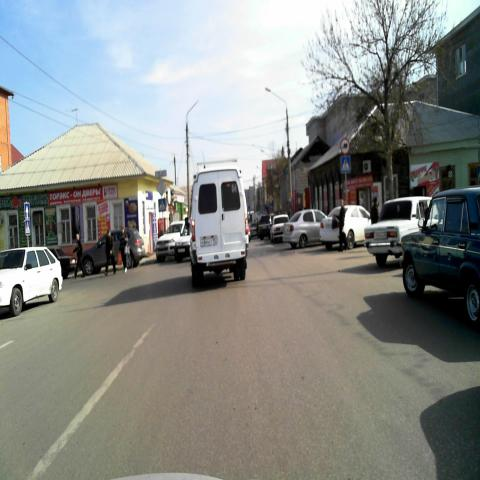3_4_1: (340, 138, 348, 154)
